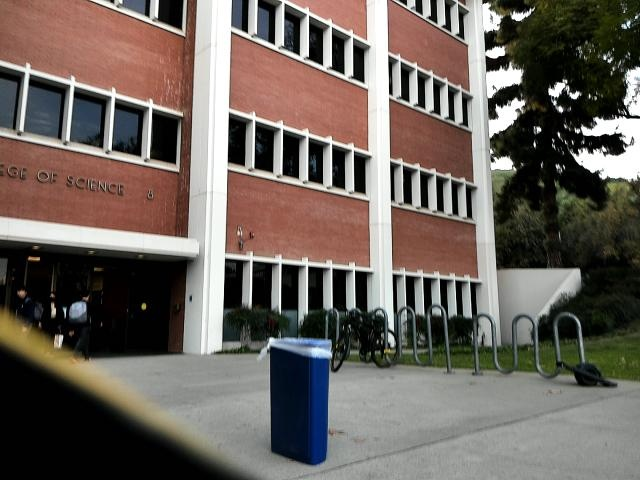trashcan_open: (265, 337, 336, 467)
